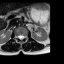CCS_normal: (20, 33, 22, 42)
LFS_normal: (24, 33, 26, 40)
LLS_normal: (22, 33, 24, 41)
RFS_normal: (16, 33, 17, 39)
RLS_normal: (17, 33, 20, 41)
